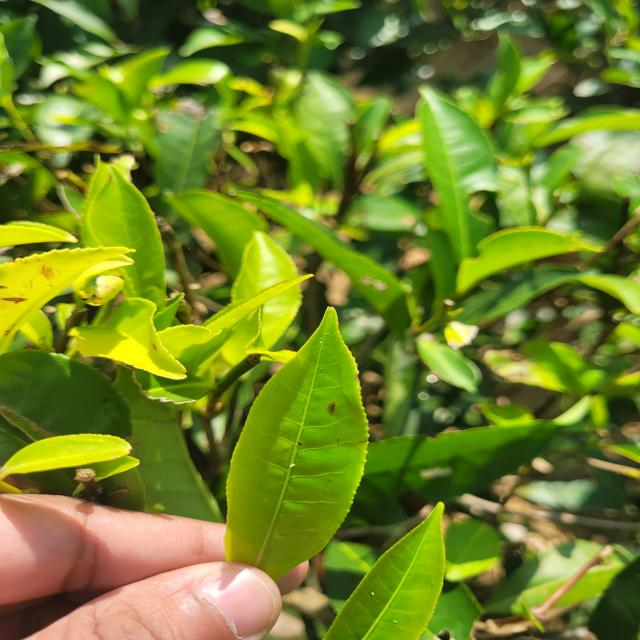Catagory A(1-2 days): (212, 289, 376, 589)
